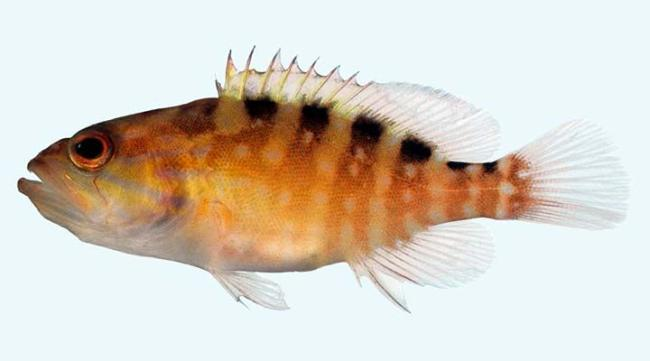fish: (18, 46, 629, 314)
